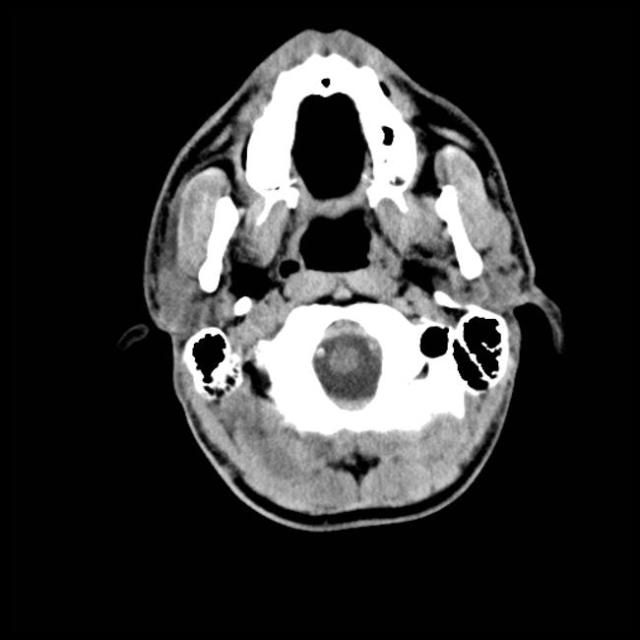lesion: (139, 28, 566, 532)
